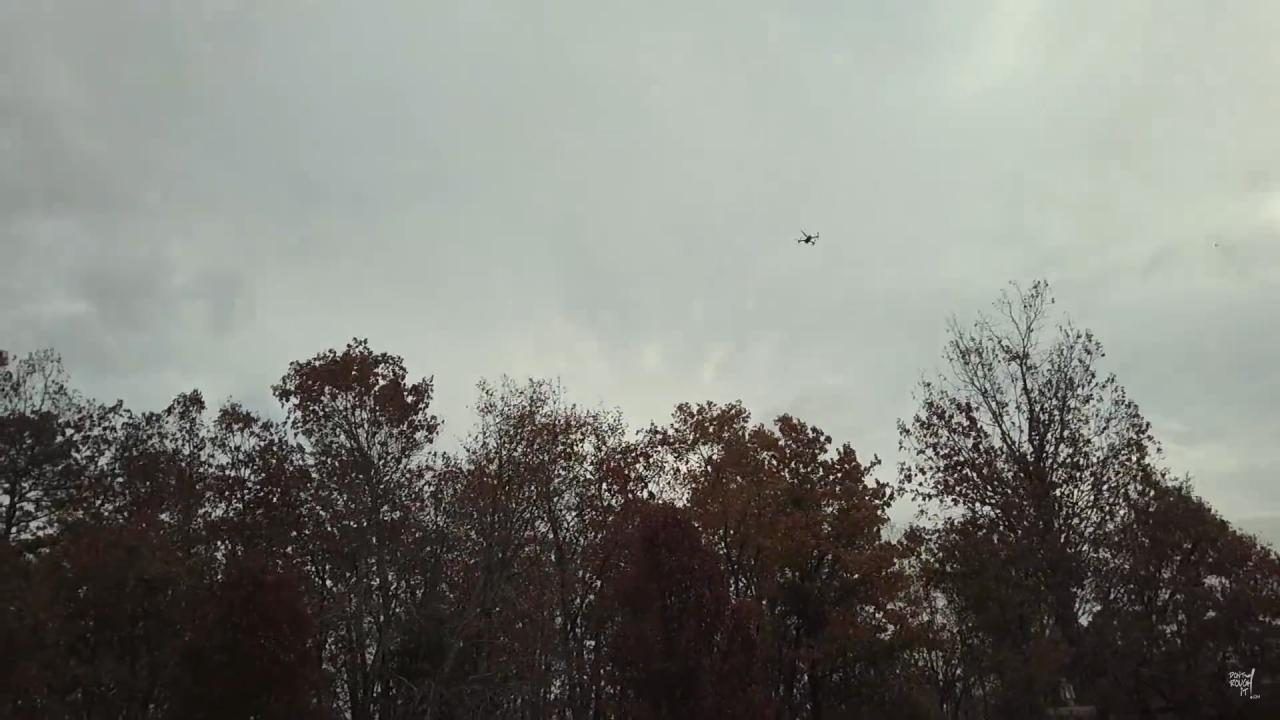Drone: (794, 222, 823, 253)
